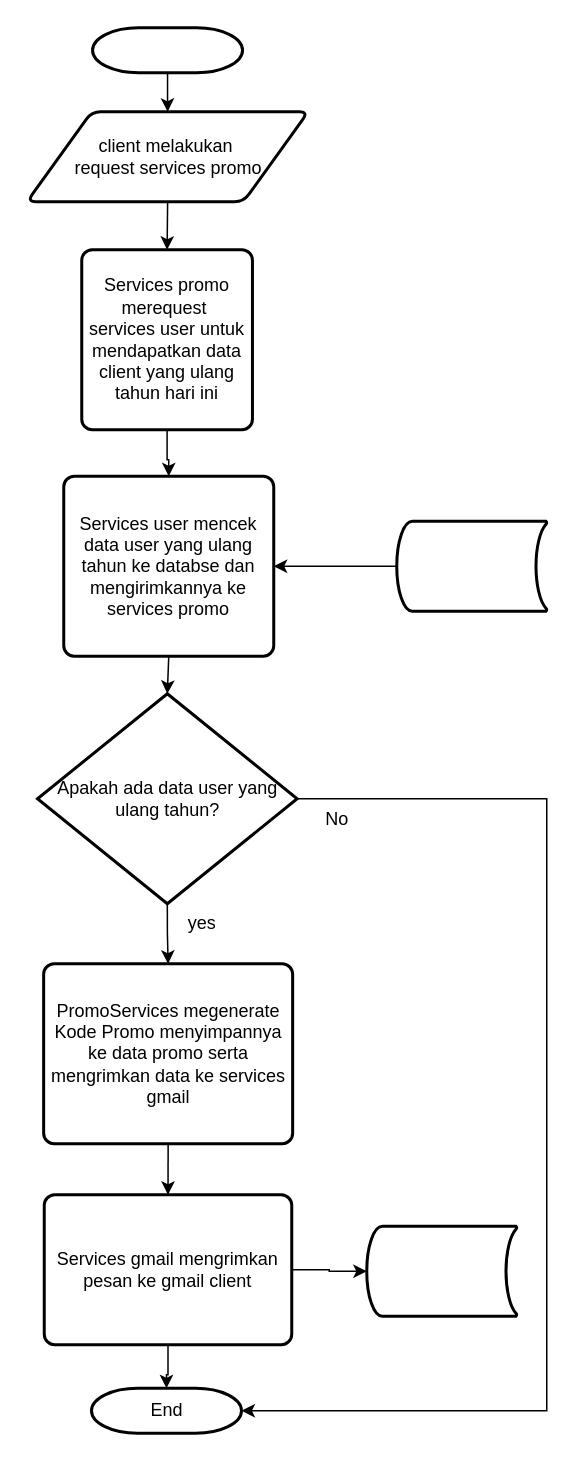
Some shapes in this 585 by 1460 pixel diagram are drawn without their labels. The centre of each missing label's shape, as x and y in pixels:
"gmail" goes at [441,1270].
"Start" goes at [166,50].
"user" goes at [471,565].
